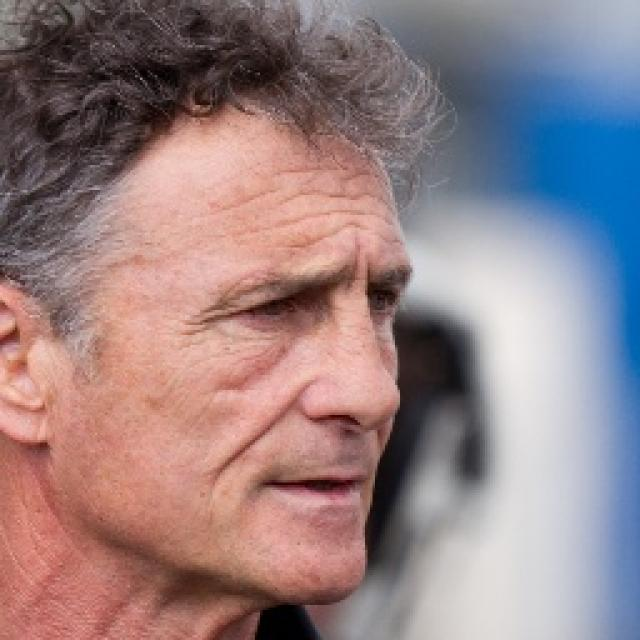no-glasses: (233, 275, 402, 338)
